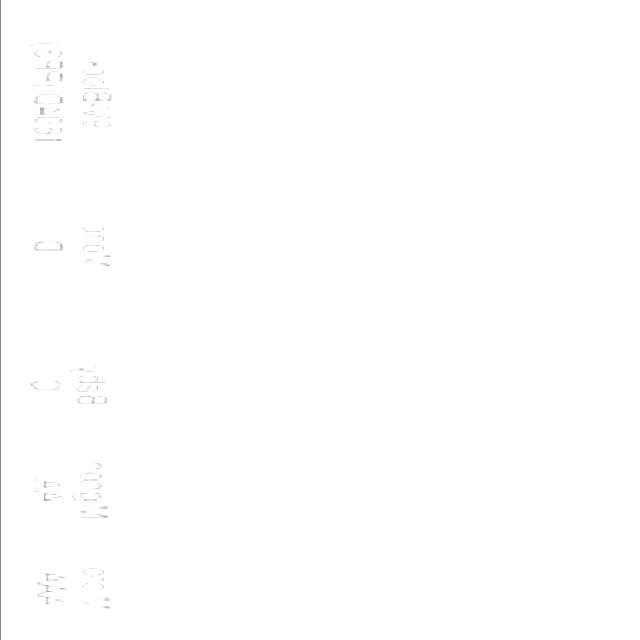9V: (115, 38, 524, 156)
AA: (120, 464, 458, 520)
AAA: (110, 550, 408, 606)
